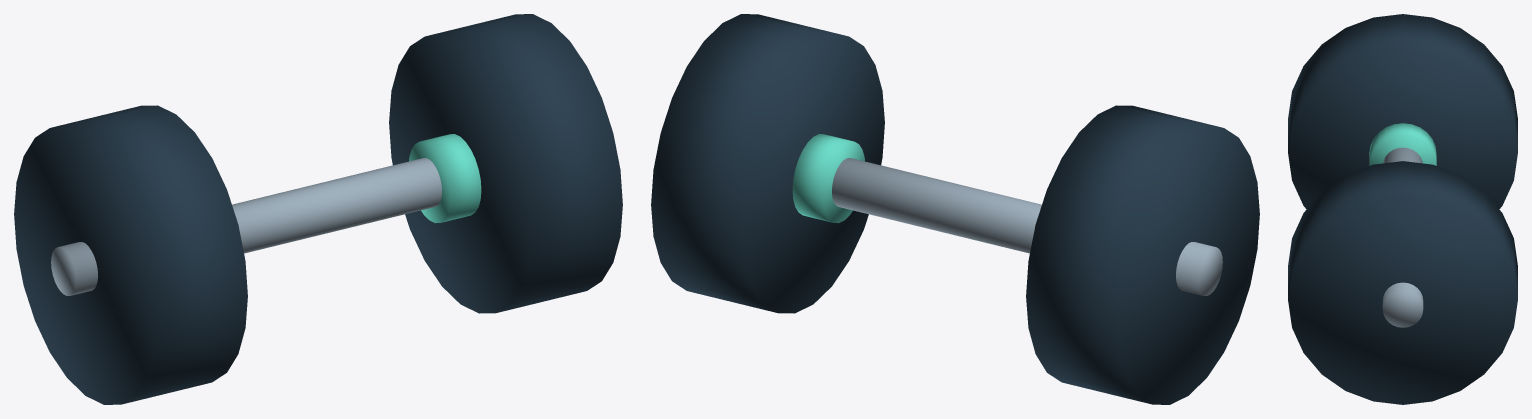
Rendered from dumbbell_single.glb.
3 views of the same model, side by side, from view 1: azimuth 30°, elevation 25°; view 2: azimuth 150°, elevation 25°; view 3: azimuth 270°, elevation 25° (orthographic). The views are drawn at different scales.
Visible parts, largest first — view 1: plates, shaft, collars; view 2: plates, shaft, collars; view 3: plates, shaft, collars.
Boxes of the visible parts, box(x1,y1,x2,y2) form: plates: box(14, 14, 622, 404); shaft: box(51, 158, 441, 295); collars: box(409, 134, 481, 223); plates: box(651, 14, 1259, 404); shaft: box(832, 158, 1222, 295); collars: box(792, 134, 864, 223); plates: box(1288, 14, 1517, 404); shaft: box(1382, 147, 1423, 327); collars: box(1369, 123, 1436, 165).
Bounding box in the file's own units: 0.28 × 0.136 × 0.136.
